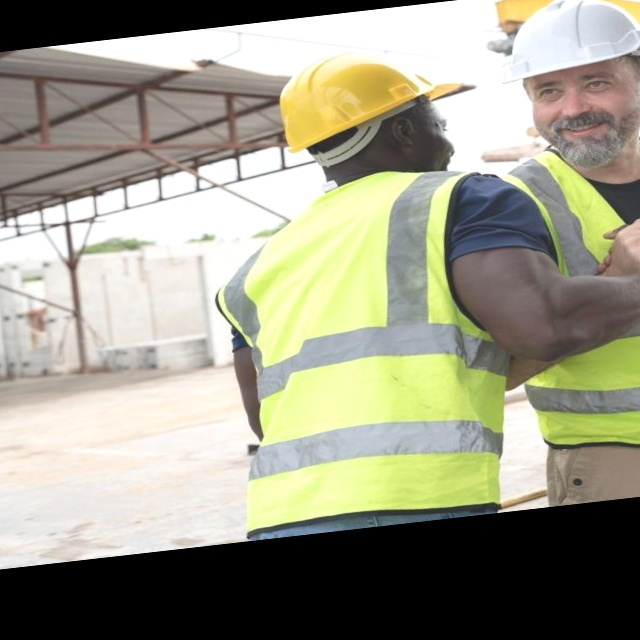Con_Casco: (272, 41, 469, 187), (484, 0, 640, 160)
Con_Chaleco: (205, 158, 524, 542), (488, 127, 640, 458)
